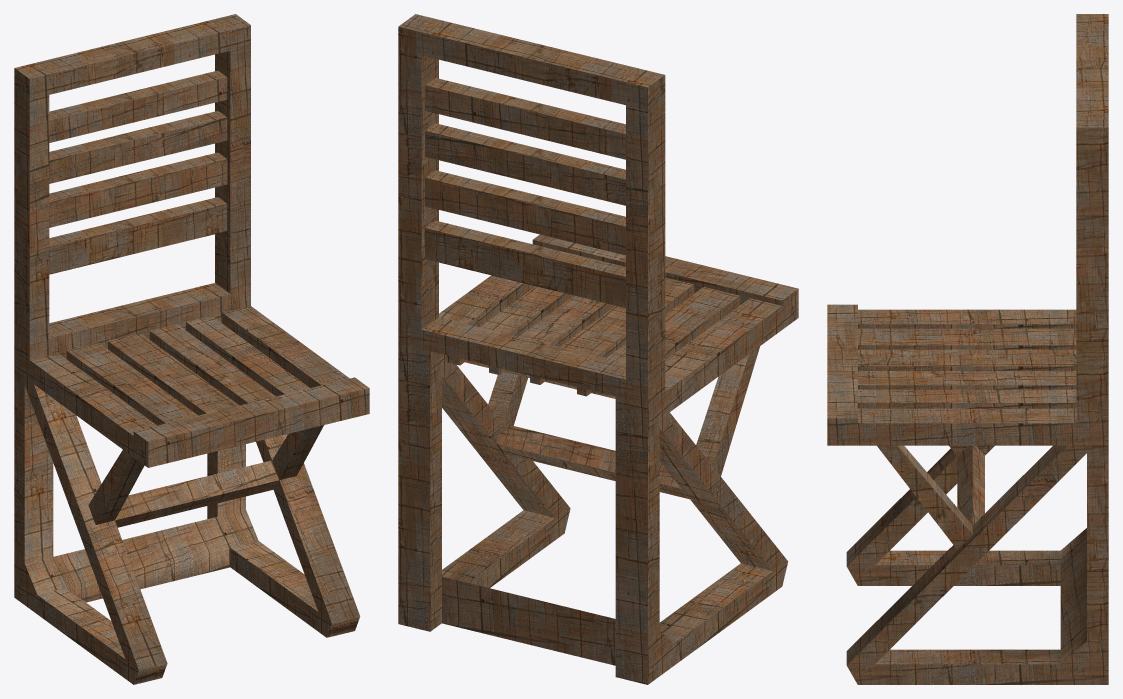
3 views of the same model, side by side, from view 1: azimuth 30°, elevation 25°; view 2: azimuth 150°, elevation 25°; view 3: azimuth 270°, elevation 25° (orthographic). The views are drawn at different scales.
Parts seen in each view (by area): view 1: silla (×6); view 2: silla (×6); view 3: silla.
Part boxes in pixels (x1,y1,x2,y2): silla (×6): (14, 14, 369, 684); silla (×6): (398, 14, 798, 684); silla: (827, 14, 1108, 684).
Size of the model in its own units: 21.78 by 22.79 by 49.8.
Materials: 1 (1 with a texture image).
